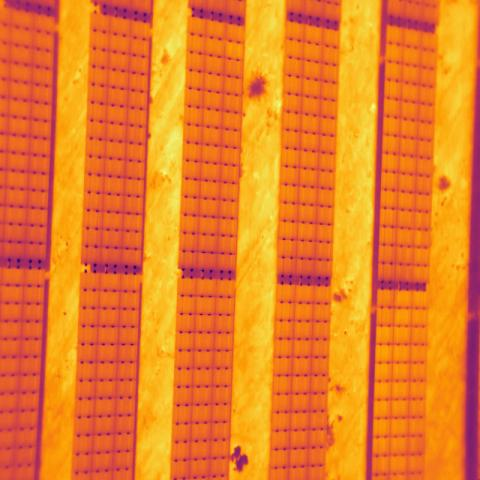fault: (225, 40, 245, 62)
